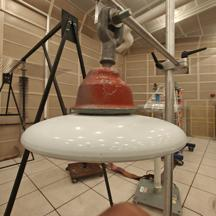insulator: (13, 62, 199, 168)
